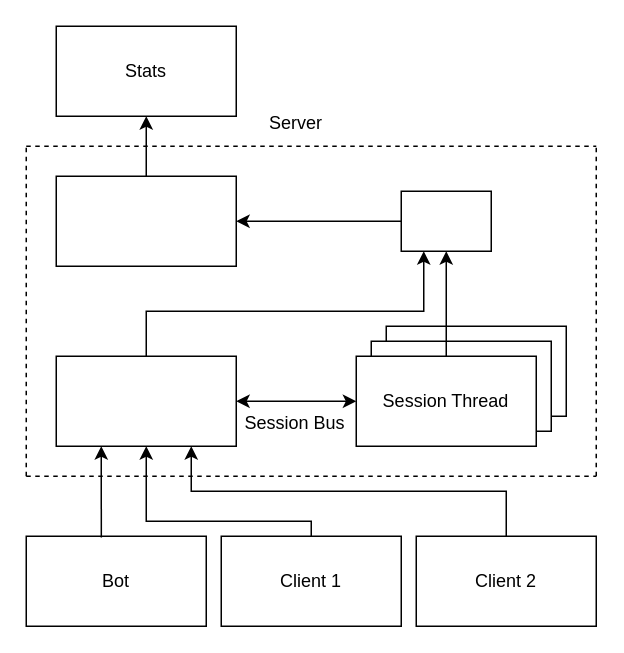
The diagram is 624 pixels wide and 653 high, and some of its shapes have lost their labels. The box of each missing label's shape, as (x1, y1, x2, y2) in pixels:
IO & Session Manager: (55, 355, 236, 446)
Log: (55, 175, 236, 266)
MPSC: (400, 190, 491, 251)
